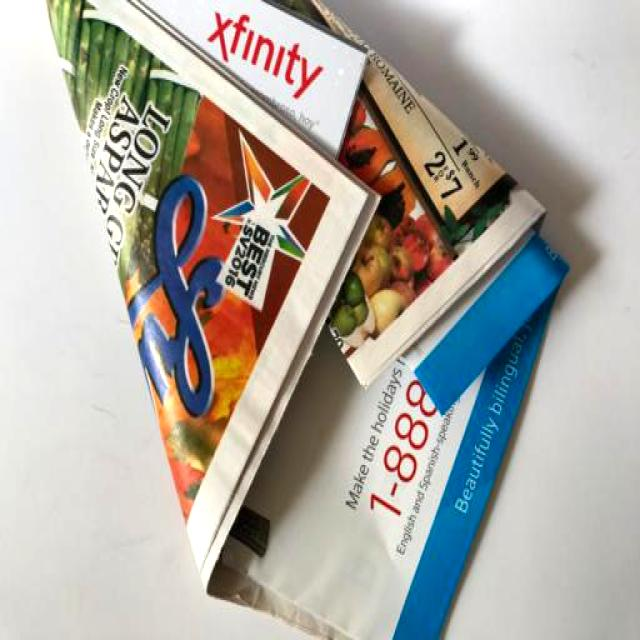paper: (40, 0, 575, 640)
